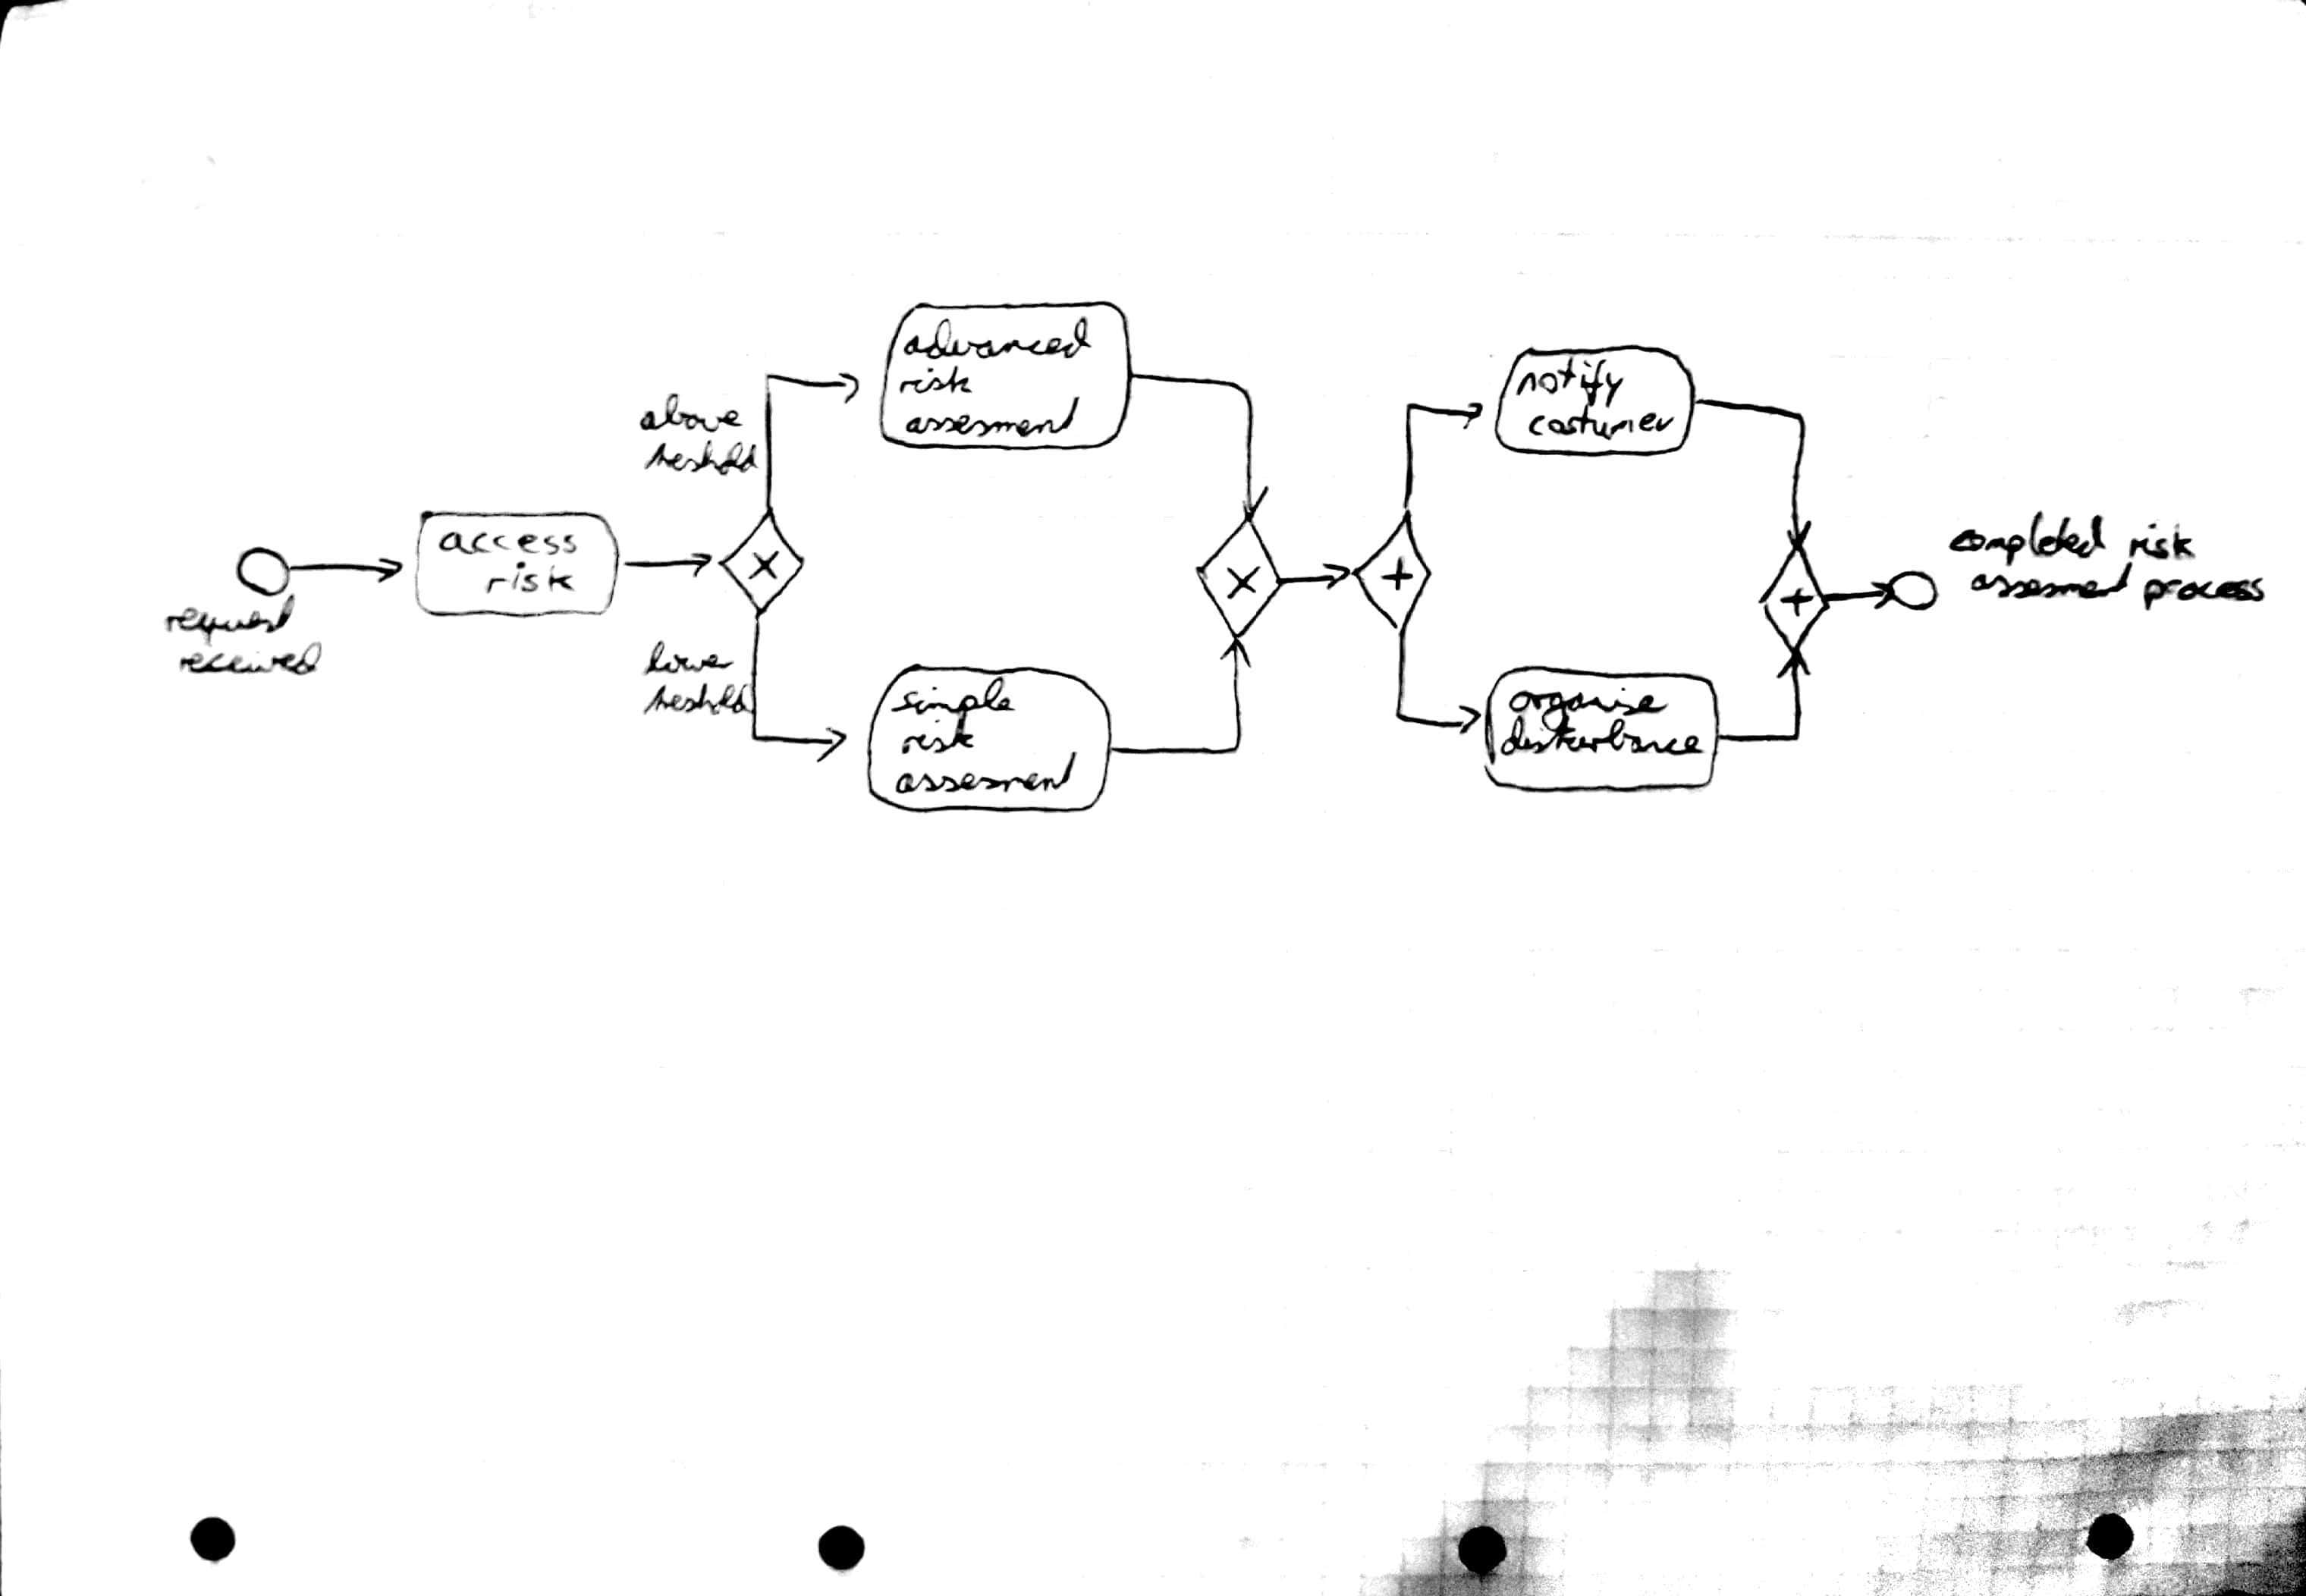above: (633, 387, 748, 438)
access: (435, 526, 582, 561)
advanced: (897, 310, 1099, 366)
assesment: (887, 745, 1085, 801), (899, 391, 1085, 443), (1963, 555, 2138, 606)
completed: (1940, 503, 2111, 571)
costumer: (1523, 398, 1680, 445)
disturbance: (1493, 706, 1710, 760)
lower: (634, 634, 741, 680)
notify: (1509, 350, 1630, 413)
organise: (1502, 680, 1673, 739)
process: (2134, 569, 2273, 617)
received: (170, 634, 329, 681)
request: (158, 587, 301, 653)
risk: (895, 703, 981, 760), (480, 557, 582, 601), (2122, 517, 2201, 564), (894, 359, 978, 399)
simple: (885, 669, 1022, 731)
treshold: (638, 434, 764, 482), (636, 676, 757, 720)
